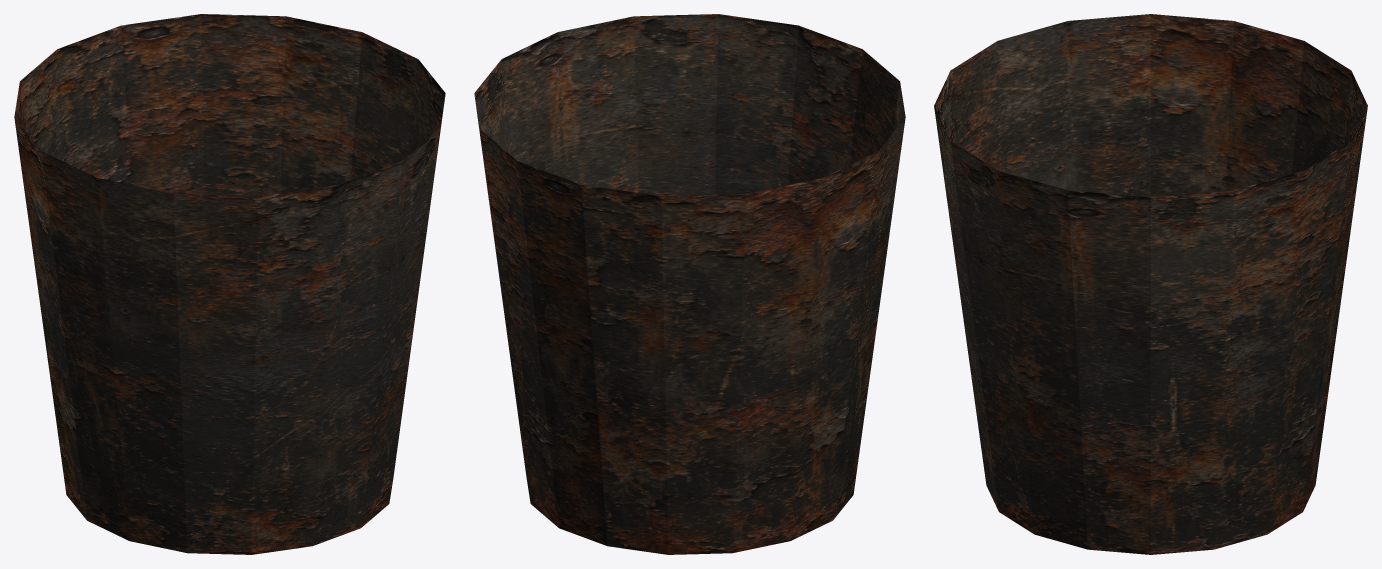
Rendered from level1_wastebasket_remodel.glb.
The picture shows the model from 3 angles, left to right: view 1: azimuth 30°, elevation 25°; view 2: azimuth 150°, elevation 25°; view 3: azimuth 270°, elevation 25°; orthographic projection.
Visible parts, largest first — view 1: WastebasketBody; view 2: WastebasketBody; view 3: WastebasketBody.
Part boxes in pixels (<box>): WastebasketBody: <box>14,14,445,554</box>; WastebasketBody: <box>474,14,905,554</box>; WastebasketBody: <box>934,14,1367,554</box>.
Bounding box in the file's own units: 0.29 × 0.28 × 0.29.
Materials: 1 (1 with a texture image).
